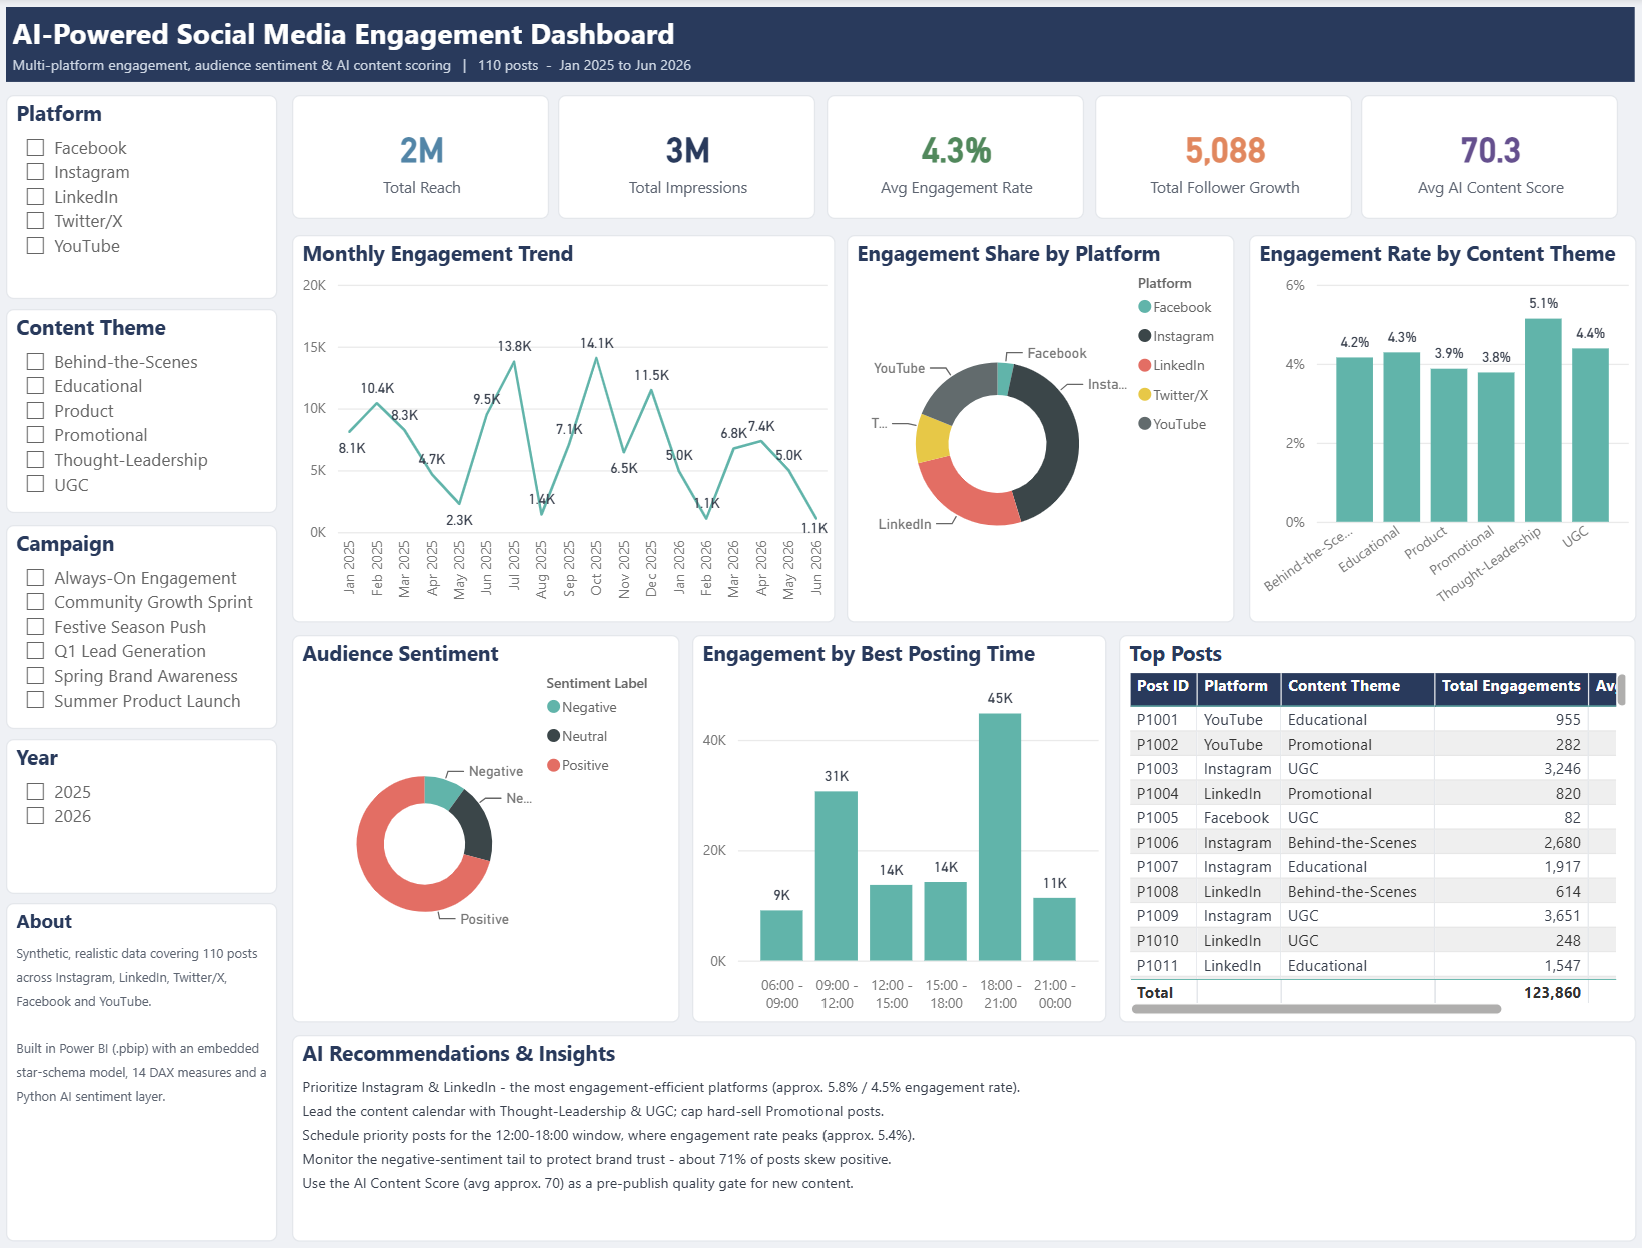

The dashboard page shown, as its layout file describes it:
{"tool":"powerbi","page":{"name":"Social Media Engagement Dashboard","canvas":[1280,980],"ordinal":0},"visuals":[{"type":"textbox","box":[10,8,1260,58],"z":0},{"type":"slicer","title":"Platform","fields":{"Values":["Engagement.Platform"]},"box":[10,76,210,158],"z":1000},{"type":"slicer","title":"Content Theme","fields":{"Values":["Engagement.Content Theme"]},"box":[10,242,210,158],"z":2000},{"type":"slicer","title":"Campaign","fields":{"Values":["Engagement.Campaign Name"]},"box":[10,408,210,158],"z":3000},{"type":"slicer","title":"Year","fields":{"Values":["DateTable.Year"]},"box":[10,574,210,120],"z":4000},{"type":"textbox","title":"About","box":[10,702,210,262],"z":5000},{"type":"card","fields":{"Values":["Engagement.Total Reach"]},"box":[230,76,199,96],"z":6000},{"type":"card","fields":{"Values":["Engagement.Total Impressions"]},"box":[437,76,199,96],"z":7000},{"type":"card","fields":{"Values":["Engagement.Avg Engagement Rate"]},"box":[644,76,199,96],"z":8000},{"type":"card","fields":{"Values":["Engagement.Total Follower Growth"]},"box":[851,76,199,96],"z":9000},{"type":"card","fields":{"Values":["Engagement.Avg AI Content Score"]},"box":[1058,76,199,96],"z":10000},{"type":"lineChart","title":"Monthly Engagement Trend","fields":{"Category":["DateTable.Month Year"],"Y":["Engagement.Total Engagements"]},"box":[230,184,420,300],"z":11000},{"type":"donutChart","title":"Engagement Share by Platform","fields":{"Category":["Engagement.Platform"],"Y":["Engagement.Total Engagements"]},"box":[660,184,300,300],"z":12000},{"type":"clusteredColumnChart","title":"Engagement Rate by Content Theme","fields":{"Category":["Engagement.Content Theme"],"Y":["Engagement.Avg Engagement Rate"]},"box":[970,184,300,300],"z":13000},{"type":"donutChart","title":"Audience Sentiment","fields":{"Category":["Engagement.Sentiment Label"],"Y":["Engagement.Total Posts"]},"box":[230,494,300,300],"z":14000},{"type":"clusteredColumnChart","title":"Engagement by Best Posting Time","fields":{"Category":["Engagement.Best Posting Time"],"Y":["Engagement.Total Engagements"]},"box":[540,494,320,300],"z":15000},{"type":"tableEx","title":"Top Posts","fields":{"Values":["Engagement.Post ID","Engagement.Platform","Engagement.Content Theme","Engagement.Total Engagements","Engagement.Avg Engagement Rate"]},"box":[870,494,400,300],"z":16000},{"type":"textbox","title":"AI Recommendations & Insights","box":[230,804,1040,160],"z":17000}]}

Visuals, with their boxes in screenshot pixels (x1, y1, x2, y2), scaled from the page's 1280x980 canvas onto the 1642x1248 screenshot:
textbox: <box>13,10,1629,84</box>
"Platform" slicer: <box>13,97,282,298</box>
"Content Theme" slicer: <box>13,308,282,509</box>
"Campaign" slicer: <box>13,520,282,721</box>
"Year" slicer: <box>13,731,282,884</box>
"About" textbox: <box>13,894,282,1228</box>
card - Engagement.Total Reach: <box>295,97,550,219</box>
card - Engagement.Total Impressions: <box>561,97,816,219</box>
card - Engagement.Avg Engagement Rate: <box>826,97,1081,219</box>
card - Engagement.Total Follower Growth: <box>1092,97,1347,219</box>
card - Engagement.Avg AI Content Score: <box>1357,97,1612,219</box>
"Monthly Engagement Trend" lineChart: <box>295,234,834,616</box>
"Engagement Share by Platform" donutChart: <box>847,234,1232,616</box>
"Engagement Rate by Content Theme" clusteredColumnChart: <box>1244,234,1629,616</box>
"Audience Sentiment" donutChart: <box>295,629,680,1011</box>
"Engagement by Best Posting Time" clusteredColumnChart: <box>693,629,1103,1011</box>
"Top Posts" tableEx: <box>1116,629,1629,1011</box>
"AI Recommendations & Insights" textbox: <box>295,1024,1629,1228</box>
